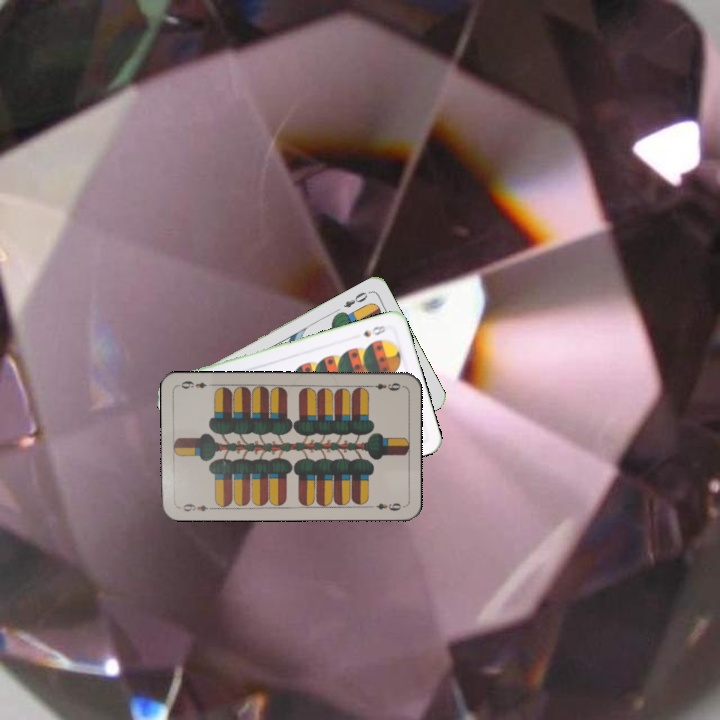E9: (176, 499, 216, 514), (364, 379, 403, 393)
EO: (339, 287, 373, 310)
S8: (359, 321, 390, 340)
